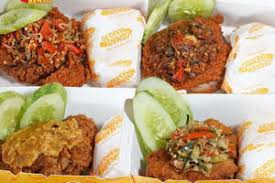ayam_geprek: (143, 17, 238, 95), (7, 10, 98, 88), (143, 114, 244, 182), (4, 110, 98, 177)
